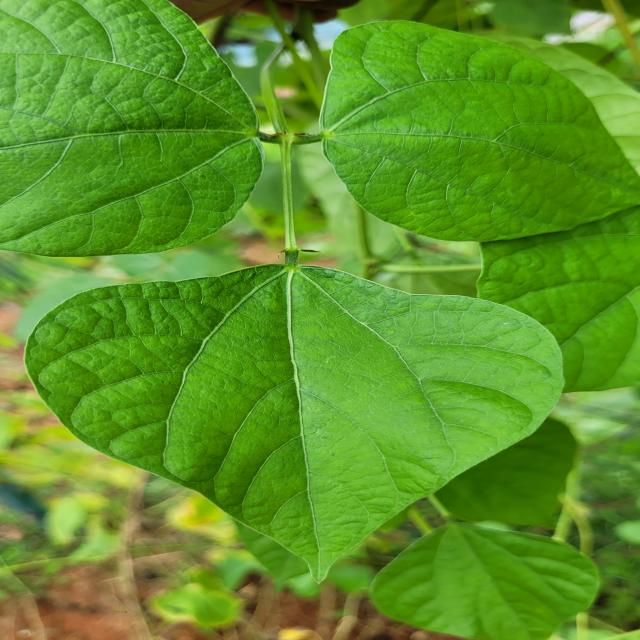Dolicos bean_healthy: (31, 257, 558, 578), (314, 14, 640, 240), (0, 0, 271, 257), (452, 170, 640, 395), (370, 524, 610, 640)
